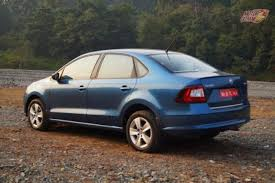car: (23, 49, 250, 150)
